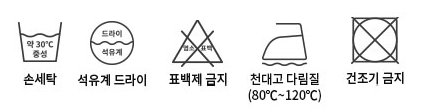KR_dry_clean_petroleum: (88, 17, 136, 67)
KR_hand_wash_30_neutral: (16, 17, 64, 66)
KR_no_chlorine_bleach: (168, 17, 225, 67)
KR_no_tumble_dry: (348, 12, 403, 68)
